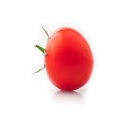tomato: (44, 27, 94, 91)
